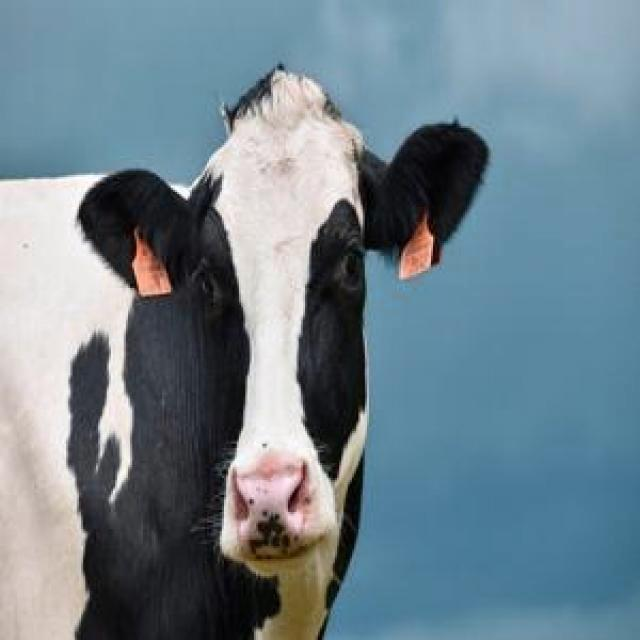cow: (0, 69, 489, 639)
